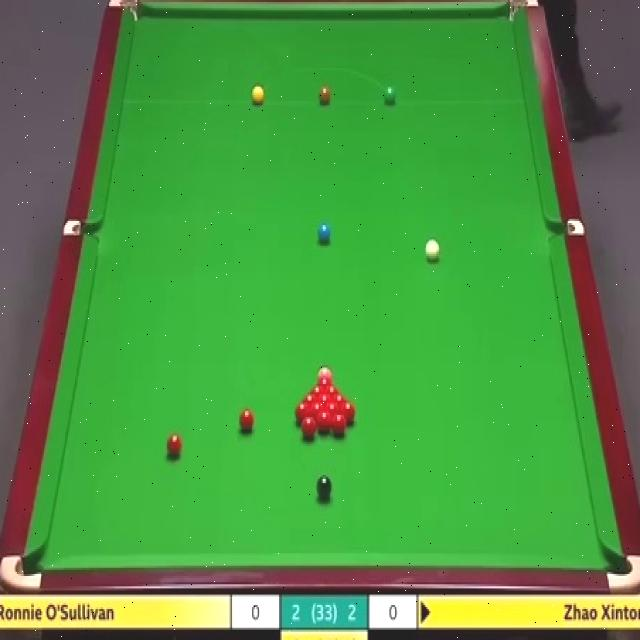black-ball: (315, 474, 331, 499)
blue-ball: (317, 224, 332, 241)
brown-ball: (319, 86, 330, 104)
green-ball: (382, 83, 398, 106)
pink-ball: (318, 367, 332, 382)
red-ball: (298, 415, 317, 439), (165, 434, 182, 460), (239, 408, 254, 432), (338, 401, 354, 423), (317, 410, 332, 432), (294, 402, 308, 424), (332, 414, 346, 436), (326, 403, 339, 424), (304, 393, 316, 406), (319, 394, 330, 407), (318, 379, 329, 391)
white-ball: (425, 238, 440, 260)
yellow-ball: (252, 84, 264, 106)
